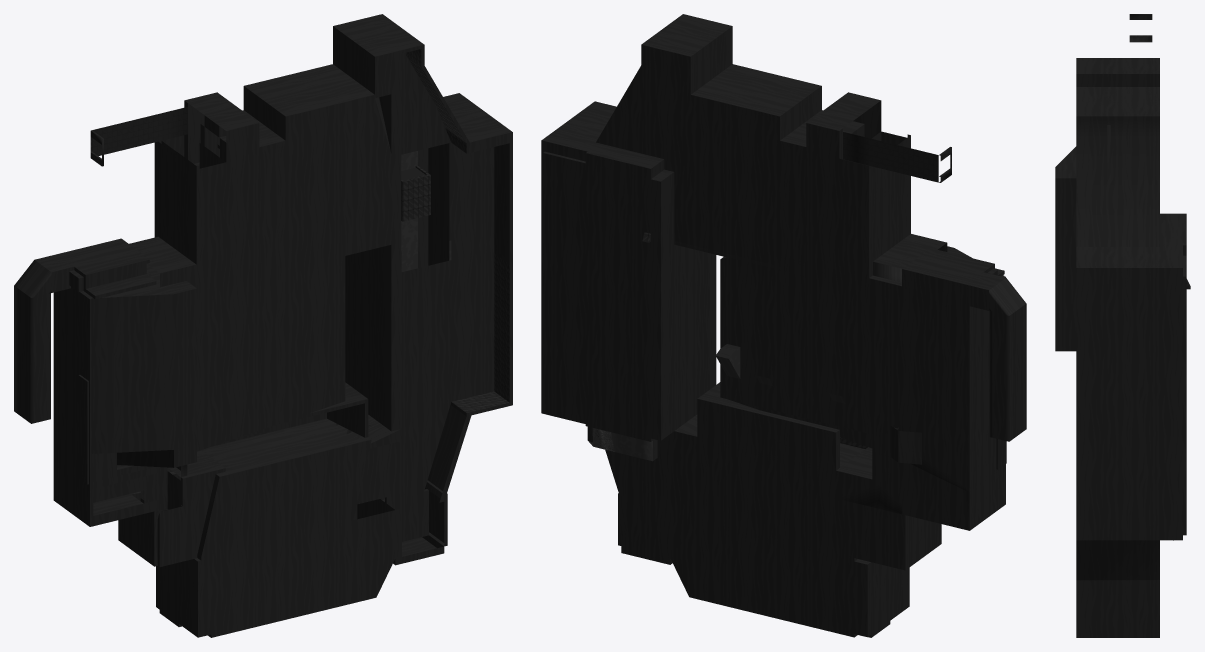
The model's file is truck level DARK.fbx.
3 views of the same model, side by side, from view 1: azimuth 30°, elevation 25°; view 2: azimuth 150°, elevation 25°; view 3: azimuth 270°, elevation 25° (orthographic).
Visible parts, largest first — view 1: mesh_141.002; view 2: mesh_141.002; view 3: mesh_141.002.
Boxes of the visible parts, x1,y1,x2,y2 form: mesh_141.002: (14, 14, 512, 637); mesh_141.002: (541, 14, 1026, 637); mesh_141.002: (1055, 14, 1190, 637).
Size of the model in its own units: 4423 by 5008 by 1136.
